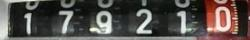digits: (94, 9, 112, 34), (135, 8, 152, 34), (214, 6, 231, 31), (176, 8, 188, 38), (58, 10, 73, 33), (22, 12, 32, 34)
